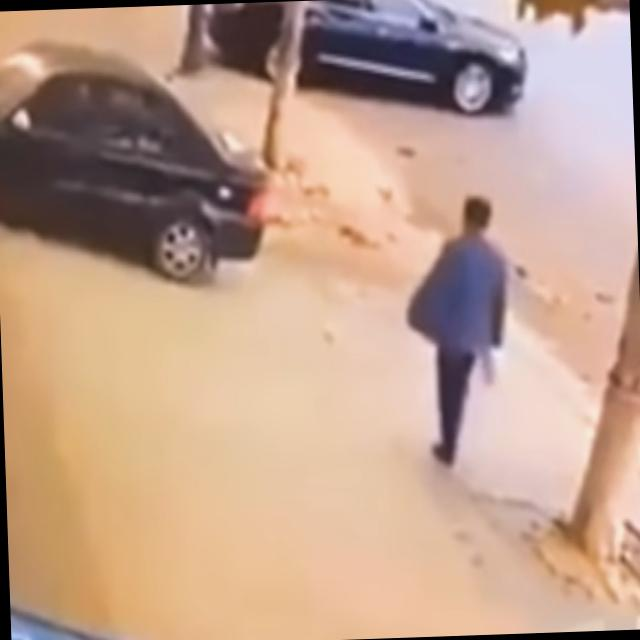person: (394, 190, 510, 472)
